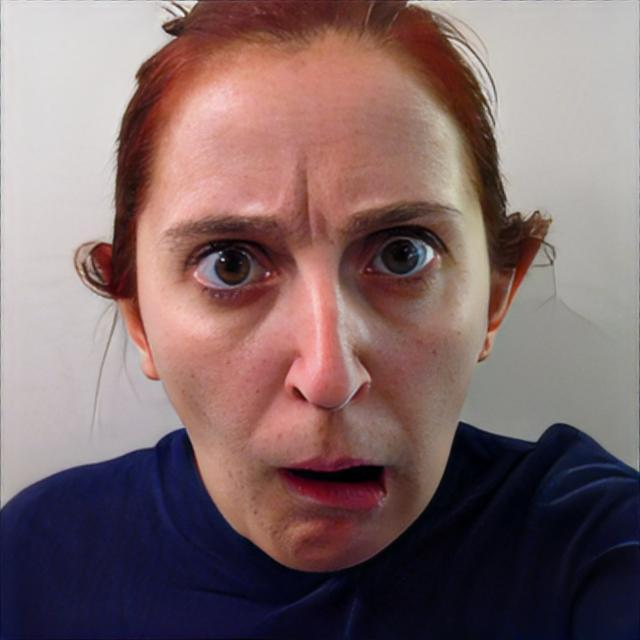Fear: (140, 22, 488, 574)
